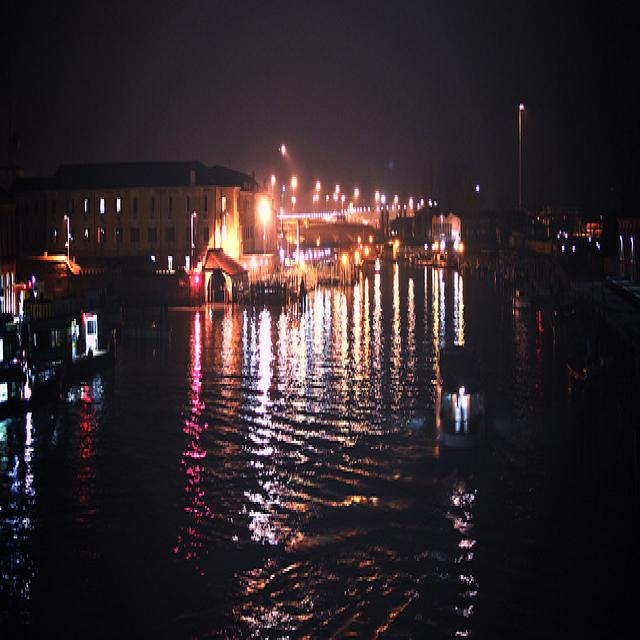Boat: (0, 301, 111, 398), (548, 325, 626, 431), (498, 250, 580, 341), (434, 350, 487, 481)
